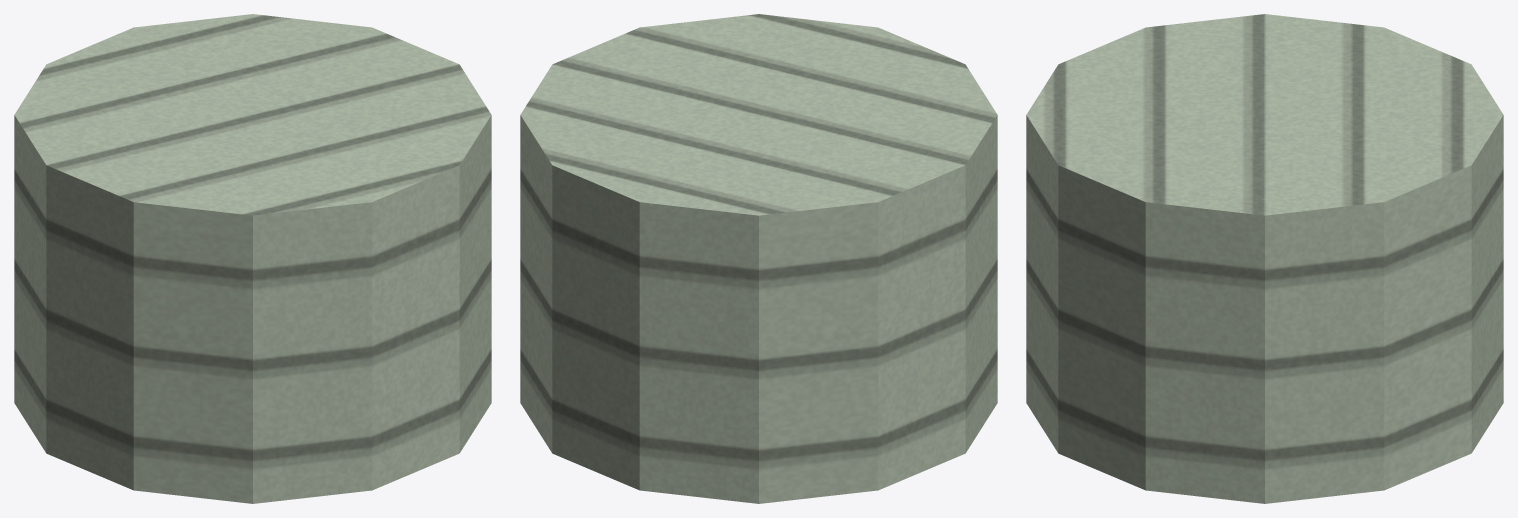
Rendered from belfry_bell.glb.
The picture shows the model from 3 angles, left to right: view 1: azimuth 30°, elevation 25°; view 2: azimuth 150°, elevation 25°; view 3: azimuth 270°, elevation 25°; orthographic projection.
Visible parts, largest first — view 1: belfry_bell-col; view 2: belfry_bell-col; view 3: belfry_bell-col.
Boxes of the visible parts, x1,y1,x2,y2 form: belfry_bell-col: (14, 14, 491, 503); belfry_bell-col: (520, 14, 997, 503); belfry_bell-col: (1026, 14, 1503, 503).
Bounding box in the file's own units: 0.6 × 0.4 × 0.6.
Materials: 1 (1 with a texture image).
